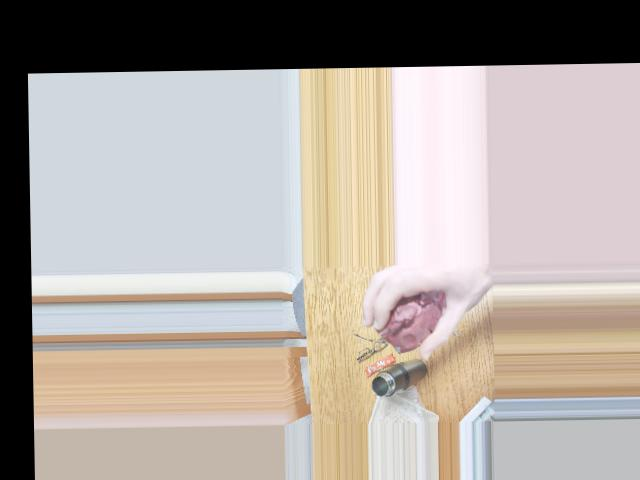onion: (376, 290, 445, 345)
